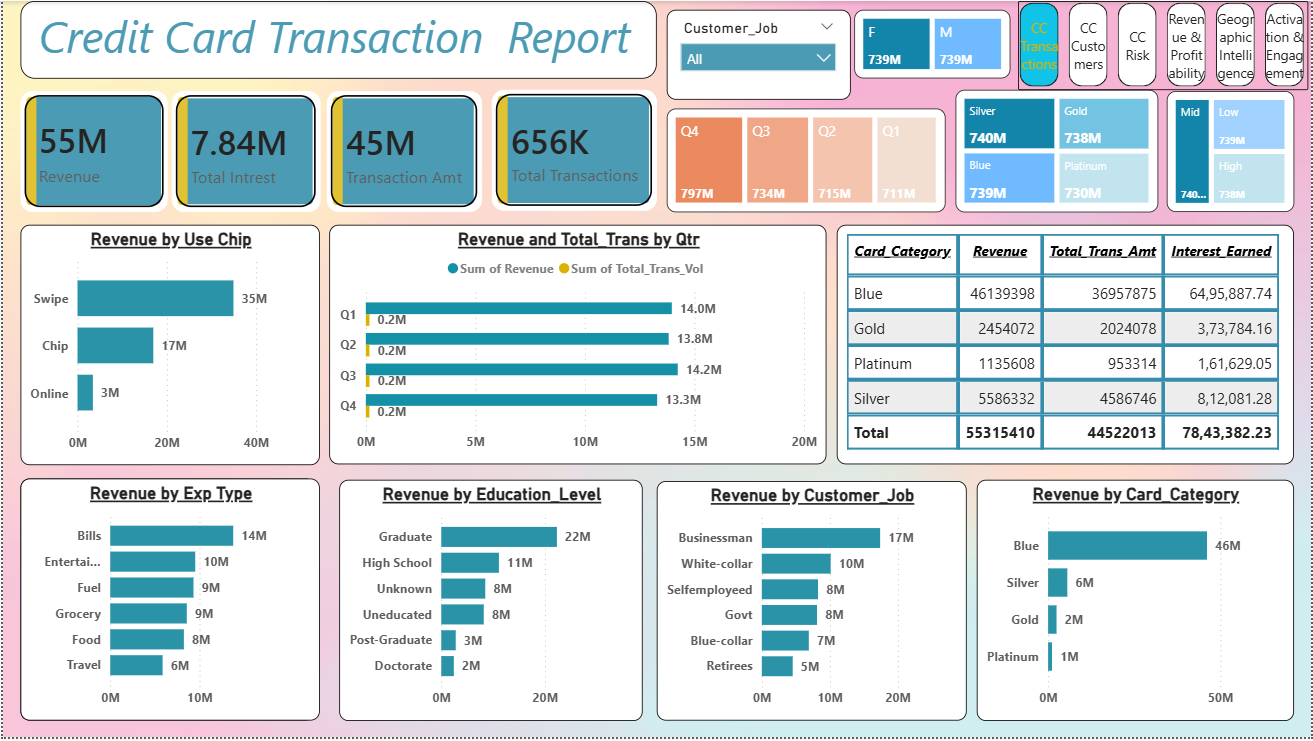

This screenshot's page, from the dashboard's own definition file:
{"tool":"powerbi","page":{"name":"CC Transactions","canvas":[1280,720],"ordinal":0},"visuals":[{"type":"textbox","box":[17.1,0,622.4,75.8],"z":0},{"type":"clusteredBarChart","title":" Revenue and Total_Trans by Qtr","fields":{"Category":["credit_card.Qtr"],"Y":["Sum(credit_card.Revenue)","Sum(credit_card.Total_Trans_Vol)"]},"box":[319.2,218.9,486.7,234.8],"z":1000},{"type":"clusteredBarChart","fields":{"Category":["credit_card.Exp Type"],"Y":["Sum(credit_card.Revenue)"]},"box":[16.9,466.9,288.3,236.5],"z":2000},{"type":"clusteredBarChart","title":" Revenue by Education_Level","fields":{"Category":["customer.Education_Level"],"Y":["Sum(credit_card.Revenue)"]},"box":[328.9,468.3,297.1,236],"z":3000},{"type":"clusteredBarChart","title":"Revenue by Customer_Job","fields":{"Y":["Sum(credit_card.Revenue)"],"Category":["customer.Customer_Job"]},"box":[639.5,469.6,303.3,234.8],"z":4000},{"type":"clusteredBarChart","title":" Revenue by Exp Type","fields":{"Category":["credit_card.Exp Type"],"Y":["Sum(credit_card.Revenue)"]},"box":[16.9,466.9,293.2,236.5],"z":4500},{"type":"clusteredBarChart","title":"Revenue by Card_Category","fields":{"Category":["credit_card.Card_Category"],"Y":["Sum(credit_card.Revenue)"]},"box":[952.9,468.6,310,235.7],"z":5000},{"type":"tableEx","fields":{"Values":["credit_card.Card_Category","Sum(credit_card.Revenue)","Sum(credit_card.Total_Trans_Amt)","Sum(credit_card.Interest_Earned)"]},"box":[815.6,218.9,447.6,234.8],"z":7000},{"type":"clusteredBarChart","title":"Revenue by Use Chip","fields":{"Category":["credit_card.Use Chip"],"Y":["Sum(credit_card.Revenue)"]},"box":[16.9,218.4,293.2,235.3],"z":8000},{"type":"cardVisual","fields":{"Data":["Sum(credit_card.Total_Trans_Vol)"]},"box":[478.1,86.8,161.4,118.6],"z":9000},{"type":"cardVisual","fields":{"Data":["Sum(credit_card.Revenue)"]},"box":[17.1,88,144.3,118.6],"z":10000},{"type":"cardVisual","fields":{"Data":["Sum(credit_card.Interest_Earned)"]},"box":[165.1,88,145.5,118.6],"z":11000},{"type":"cardVisual","fields":{"Data":["Sum(credit_card.Total_Trans_Amt)"]},"box":[316.7,88,151.6,118.6],"z":12000},{"type":"slicer","fields":{"Values":["customer.Customer_Job"]},"box":[649.3,8.6,179.8,88],"z":13000},{"type":"treemap","fields":{"Group":["credit_card.Qtr"],"Values":["Avg(credit_card.Client_Num)"]},"box":[649.3,105.2,272.7,101.5],"z":14000},{"type":"treemap","fields":{"Group":["customer.Gender"],"Values":["Avg(credit_card.Client_Num)"]},"box":[833,9,152.9,67.3],"z":15000},{"type":"treemap","fields":{"Group":["credit_card.Card_Category"],"Values":["Avg(credit_card.Client_Num)"]},"box":[931.8,86.8,198.1,119.8],"z":16000},{"type":"treemap","fields":{"Values":["Avg(credit_card.Client_Num)"],"Group":["customer.IncomeGroup"]},"box":[1138.5,88,124.7,118.6],"z":17000},{"type":"pageNavigator","box":[993,0,284,86.8],"z":18000}]}

Visuals, with their boxes in screenshot pixels (x1, y1, x2, y2), scaled from the page's 1280x720 canvas onto the 1313x741 screenshot:
textbox: BBox(18, 0, 656, 78)
" Revenue and Total_Trans by Qtr" clusteredBarChart: BBox(327, 225, 827, 467)
clusteredBarChart - credit_card.Exp Type x Sum(credit_card.Revenue): BBox(17, 481, 313, 724)
" Revenue by Education_Level" clusteredBarChart: BBox(337, 482, 642, 725)
"Revenue by Customer_Job" clusteredBarChart: BBox(656, 483, 967, 725)
" Revenue by Exp Type" clusteredBarChart: BBox(17, 481, 318, 724)
"Revenue by Card_Category" clusteredBarChart: BBox(977, 482, 1295, 725)
tableEx - credit_card.Card_Category x Sum(credit_card.Revenue): BBox(837, 225, 1296, 467)
"Revenue by Use Chip" clusteredBarChart: BBox(17, 225, 318, 467)
cardVisual - Sum(credit_card.Total_Trans_Vol): BBox(490, 89, 656, 211)
cardVisual - Sum(credit_card.Revenue): BBox(18, 91, 166, 213)
cardVisual - Sum(credit_card.Interest_Earned): BBox(169, 91, 319, 213)
cardVisual - Sum(credit_card.Total_Trans_Amt): BBox(325, 91, 480, 213)
slicer - customer.Customer_Job: BBox(666, 9, 850, 99)
treemap - credit_card.Qtr x Avg(credit_card.Client_Num): BBox(666, 108, 946, 213)
treemap - customer.Gender x Avg(credit_card.Client_Num): BBox(854, 9, 1011, 79)
treemap - credit_card.Card_Category x Avg(credit_card.Client_Num): BBox(956, 89, 1159, 213)
treemap - Avg(credit_card.Client_Num) x customer.IncomeGroup: BBox(1168, 91, 1296, 213)
pageNavigator: BBox(1019, 0, 1310, 89)
